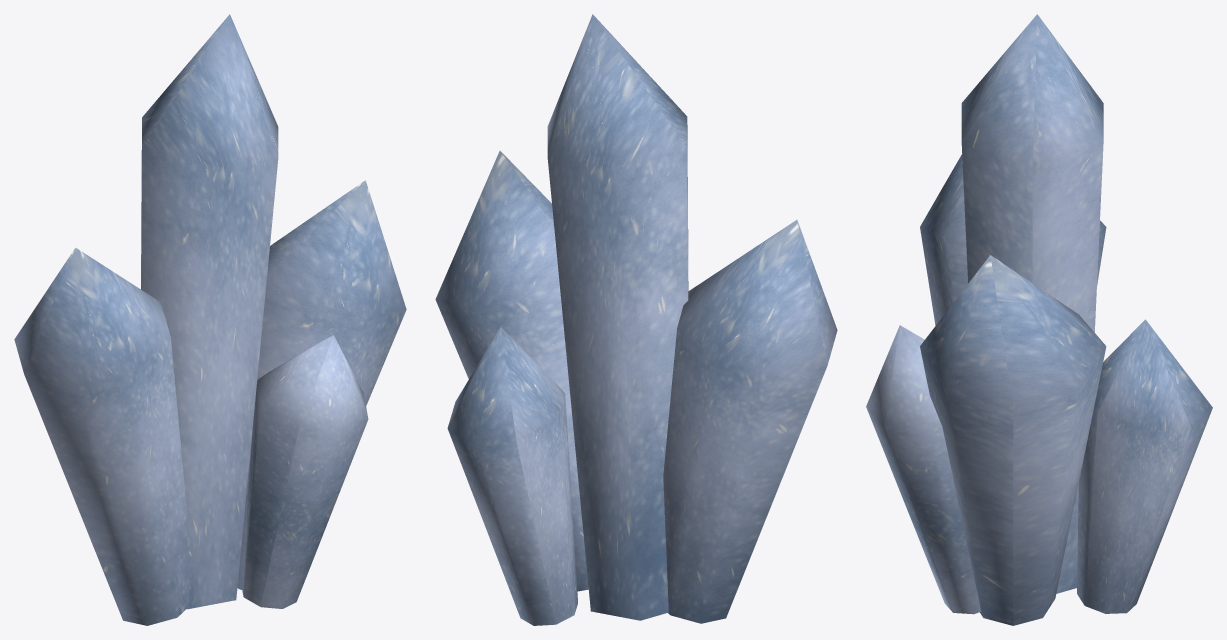
The model's file is LampLight_PinkCrystal_FBX.FBX.
3 renders of one model, left to right at view 1: azimuth 30°, elevation 25°; view 2: azimuth 150°, elevation 25°; view 3: azimuth 270°, elevation 25°, orthographic. The views are drawn at different scales.
Parts seen in each view (by area): view 1: Middle_LargePinkCrystal, Left_PinkCrystal, Front_Small_PinkCrystal, Right_PinkCrystal; view 2: Middle_LargePinkCrystal, Left_PinkCrystal, Back_Small_PinkCrystal, Right_PinkCrystal; view 3: Right_PinkCrystal, Middle_LargePinkCrystal, Back_Small_PinkCrystal, Front_Small_PinkCrystal, Left_PinkCrystal.
Boxes of the visible parts, left/top/right/bottom form: Middle_LargePinkCrystal: left=141, top=14, right=278, bottom=609; Left_PinkCrystal: left=14, top=247, right=193, bottom=625; Front_Small_PinkCrystal: left=242, top=335, right=368, bottom=608; Right_PinkCrystal: left=237, top=180, right=406, bottom=589; Middle_LargePinkCrystal: left=547, top=14, right=688, bottom=620; Left_PinkCrystal: left=663, top=219, right=837, bottom=623; Back_Small_PinkCrystal: left=447, top=327, right=577, bottom=625; Right_PinkCrystal: left=435, top=150, right=588, bottom=591; Right_PinkCrystal: left=920, top=255, right=1106, bottom=625; Middle_LargePinkCrystal: left=961, top=14, right=1103, bottom=593; Back_Small_PinkCrystal: left=1077, top=319, right=1212, bottom=613; Front_Small_PinkCrystal: left=866, top=325, right=981, bottom=614; Left_PinkCrystal: left=920, top=154, right=1106, bottom=325.
Bounding box in the file's own units: 30.11 × 43.93 × 23.4.
